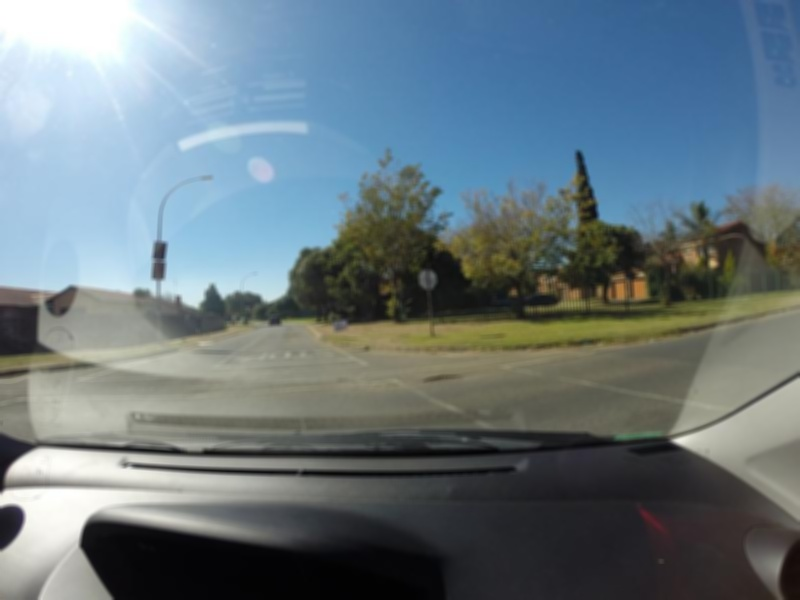pothole: (426, 374, 463, 381), (334, 376, 357, 383)
